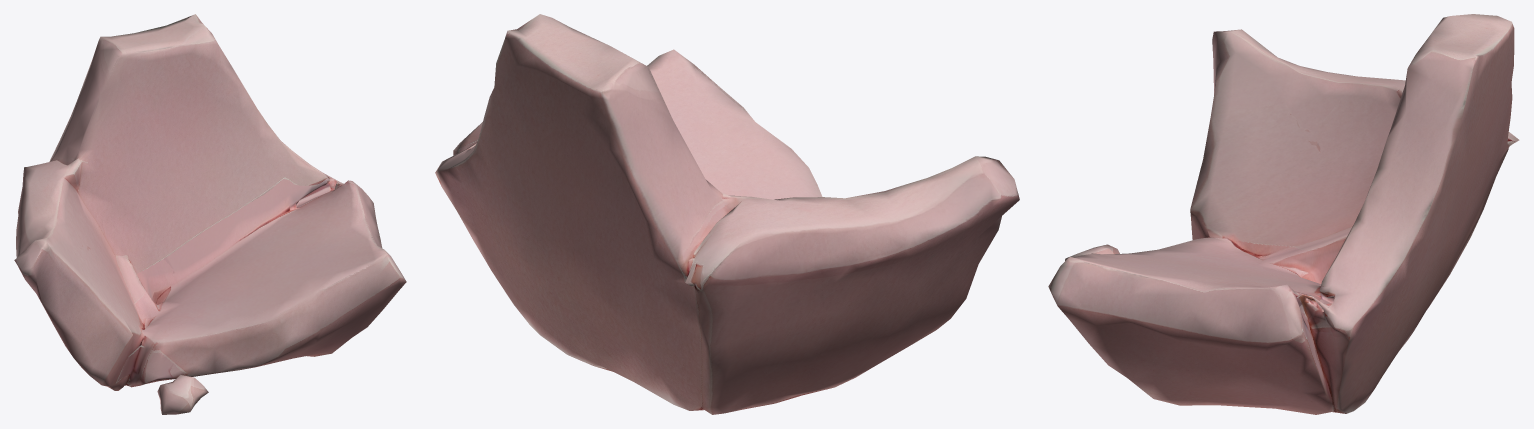
Rendered from PiggyFragment01.glb.
3 renders of one model, left to right at view 1: azimuth 30°, elevation 25°; view 2: azimuth 150°, elevation 25°; view 3: azimuth 270°, elevation 25°, orthographic. The views are drawn at different scales.
Parts seen in each view (by area): view 1: texture_mapping; view 2: texture_mapping; view 3: texture_mapping.
Boxes of the visible parts, x1,y1,x2,y2 form: texture_mapping: (14,14,406,414); texture_mapping: (435,14,1019,414); texture_mapping: (1048,14,1519,414).
Size of the model in its own units: 0.9846 by 0.6867 by 0.8125.
Materials: 1 (1 with a texture image).
